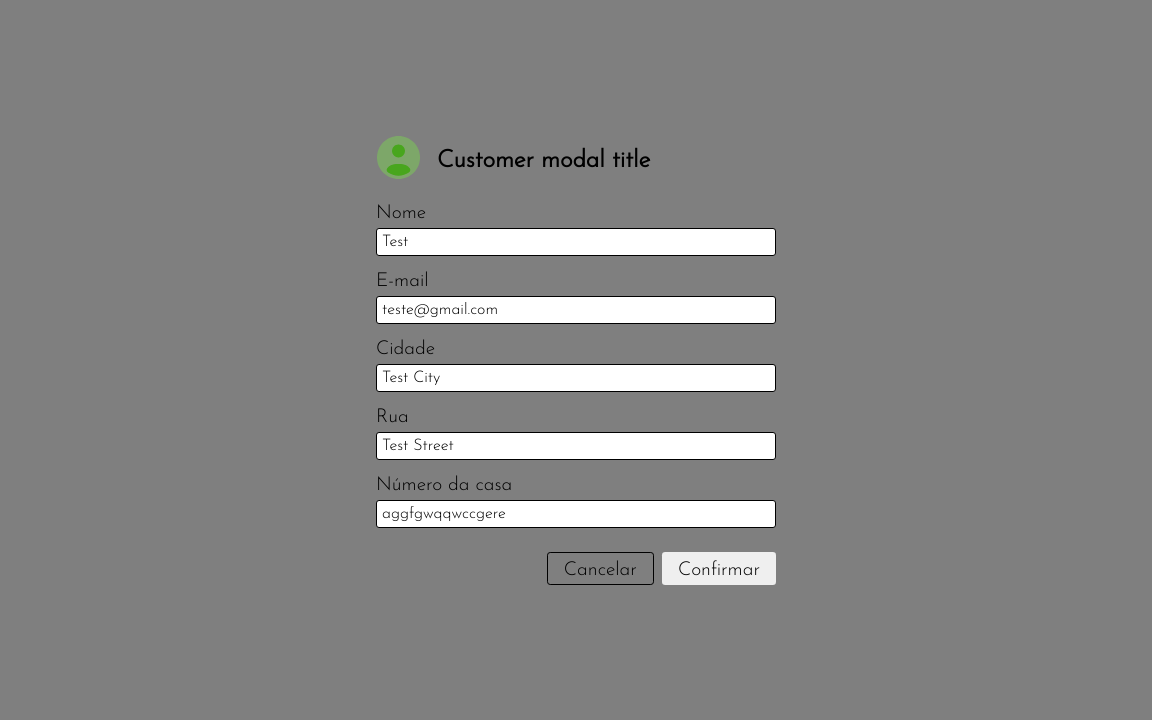
Test: CRUD - Tests › should show a error message user types not number characters in number field
Click the button "Confirmar" at (719, 568), box [662, 552, 776, 585]
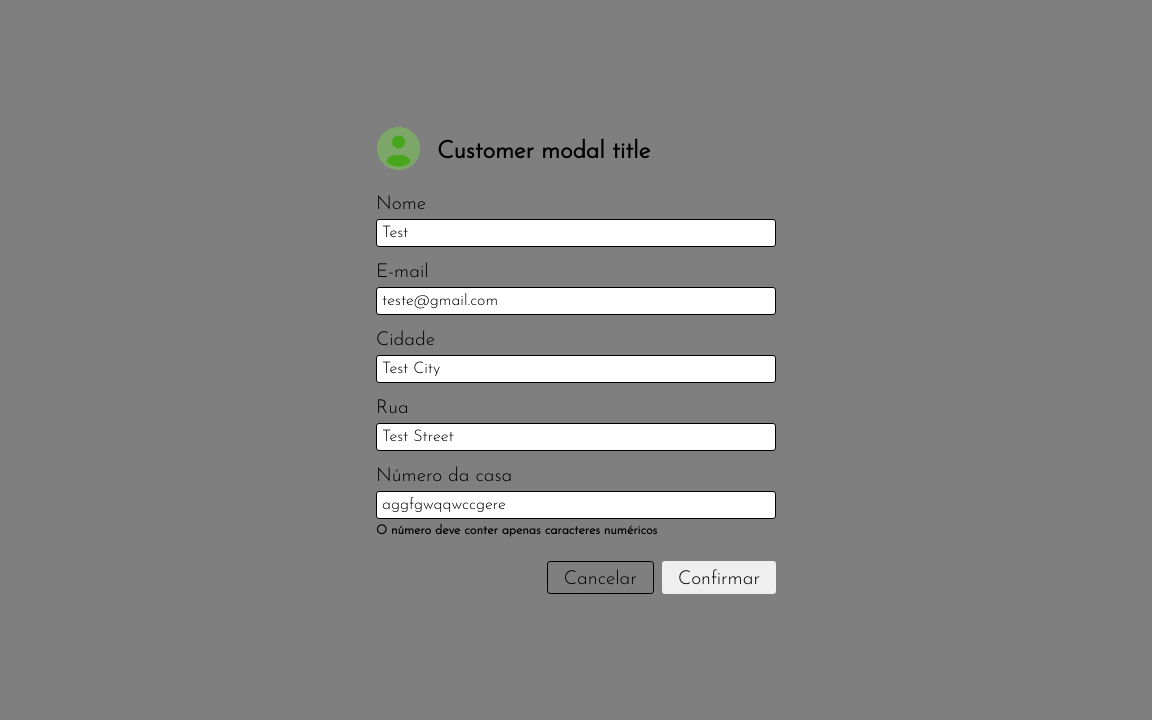
Expected: the text "O número deve conter apenas caracteres numéricos" is shown, [376, 524, 657, 537]
